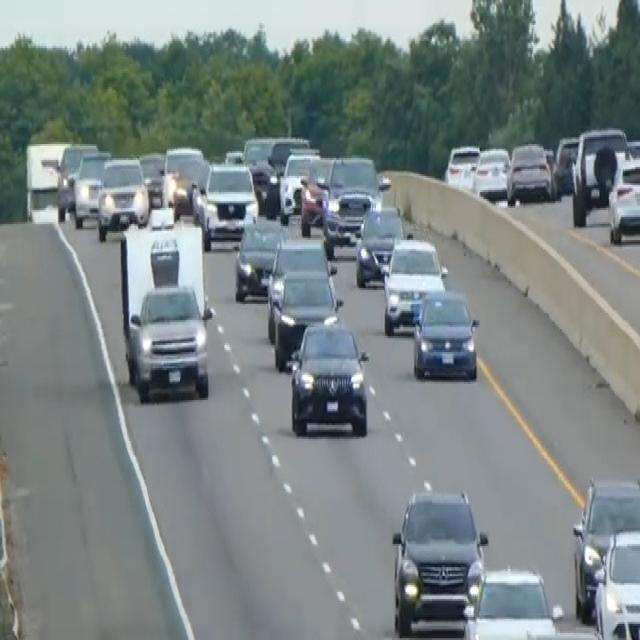car: (390, 486, 488, 636), (571, 475, 639, 622), (265, 234, 336, 340), (462, 564, 562, 638), (272, 266, 343, 370), (382, 235, 447, 334), (412, 286, 479, 381), (191, 158, 259, 249), (322, 153, 388, 243), (570, 124, 628, 226), (593, 524, 639, 638), (96, 153, 149, 240), (233, 214, 284, 302), (354, 203, 405, 286), (56, 140, 98, 220), (71, 148, 111, 228), (278, 146, 321, 218), (506, 138, 552, 204), (162, 144, 204, 215), (298, 153, 334, 235), (606, 154, 639, 243), (472, 144, 511, 201), (247, 156, 281, 217), (268, 135, 310, 176), (137, 149, 166, 208), (444, 142, 479, 190), (553, 135, 579, 194), (242, 135, 273, 165)
jeep: (285, 313, 371, 439)
lorry: (23, 137, 71, 222)
truck: (117, 218, 213, 402)
